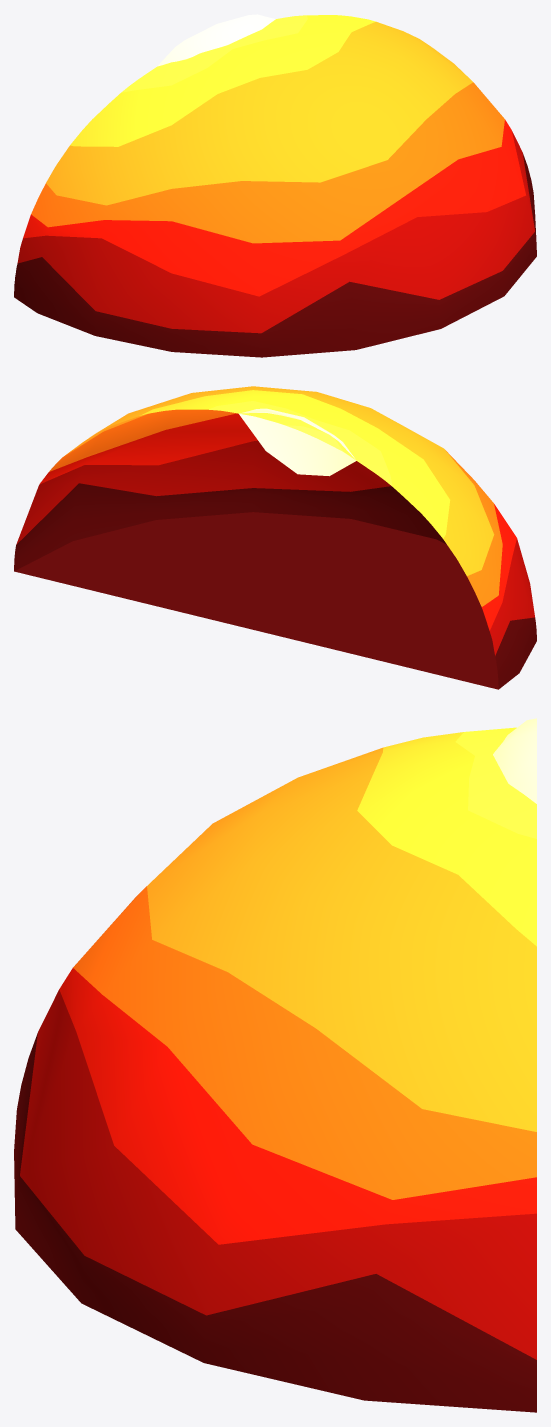
File: shot_charge_b244.glb
3 renders of one model, top to bottom at view 1: azimuth 30°, elevation 25°; view 2: azimuth 150°, elevation 25°; view 3: azimuth 270°, elevation 25°, orthographic. The views are drawn at different scales.
Parts seen in each view (by area): view 1: charge_twin4_a_fire_shot_charge_b244, charge_twin4_a_core_shot_charge_b244; view 2: charge_twin4_a_fire_shot_charge_b244, charge_twin4_a_core_shot_charge_b244; view 3: charge_twin4_a_fire_shot_charge_b244, charge_twin4_a_core_shot_charge_b244.
Boxes of the visible parts, x1=… form: charge_twin4_a_fire_shot_charge_b244: x1=14, y1=15, x2=536, y2=357; charge_twin4_a_core_shot_charge_b244: x1=157, y1=14, x2=275, y2=66; charge_twin4_a_fire_shot_charge_b244: x1=14, y1=386, x2=536, y2=689; charge_twin4_a_core_shot_charge_b244: x1=239, y1=408, x2=356, y2=476; charge_twin4_a_fire_shot_charge_b244: x1=14, y1=727, x2=536, y2=1412; charge_twin4_a_core_shot_charge_b244: x1=493, y1=718, x2=536, y2=803.
Size of the model in its own units: 11.95 by 5.26 by 5.92.
